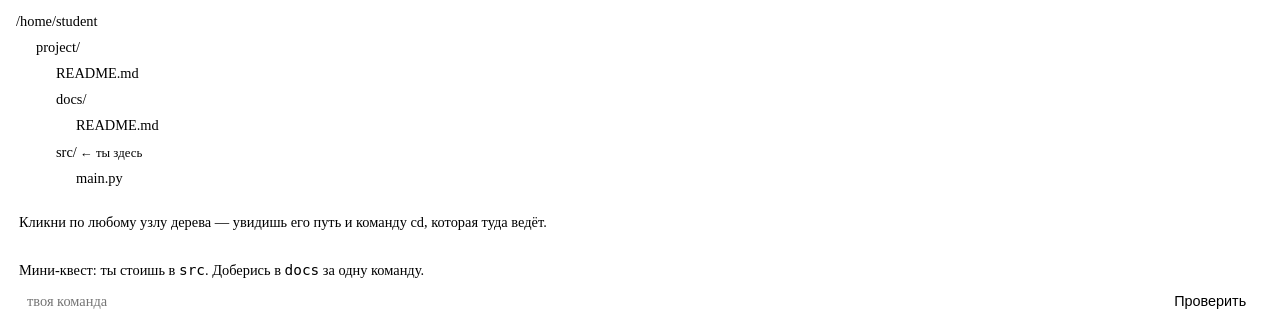
Test case: квест: повторное решение не даёт XP дважды
The width and height of the screenshot is (1276, 332).
Step 1. Type "cd ../docs" into the field named "Команда для квеста" → (586, 302), box 19,287 -> 1153,316
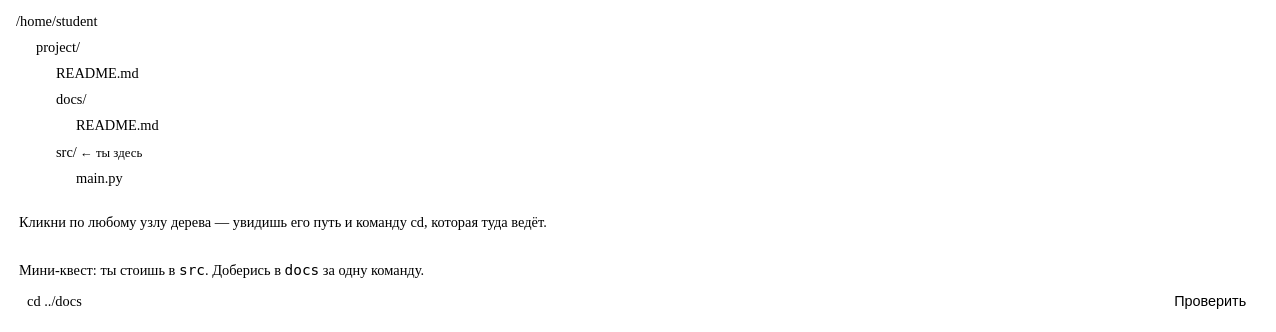
Step 2. Click the button "Проверить" → click(1210, 302), box 1161,287 -> 1259,316
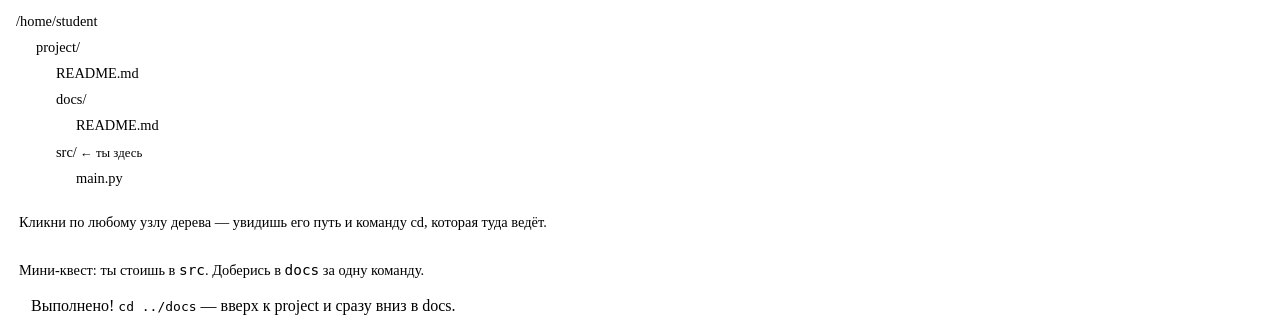
Result: the text "Выполнено! cd ../docs — вверх к project и сразу вниз в docs." is shown at 31,297 -> 456,314
